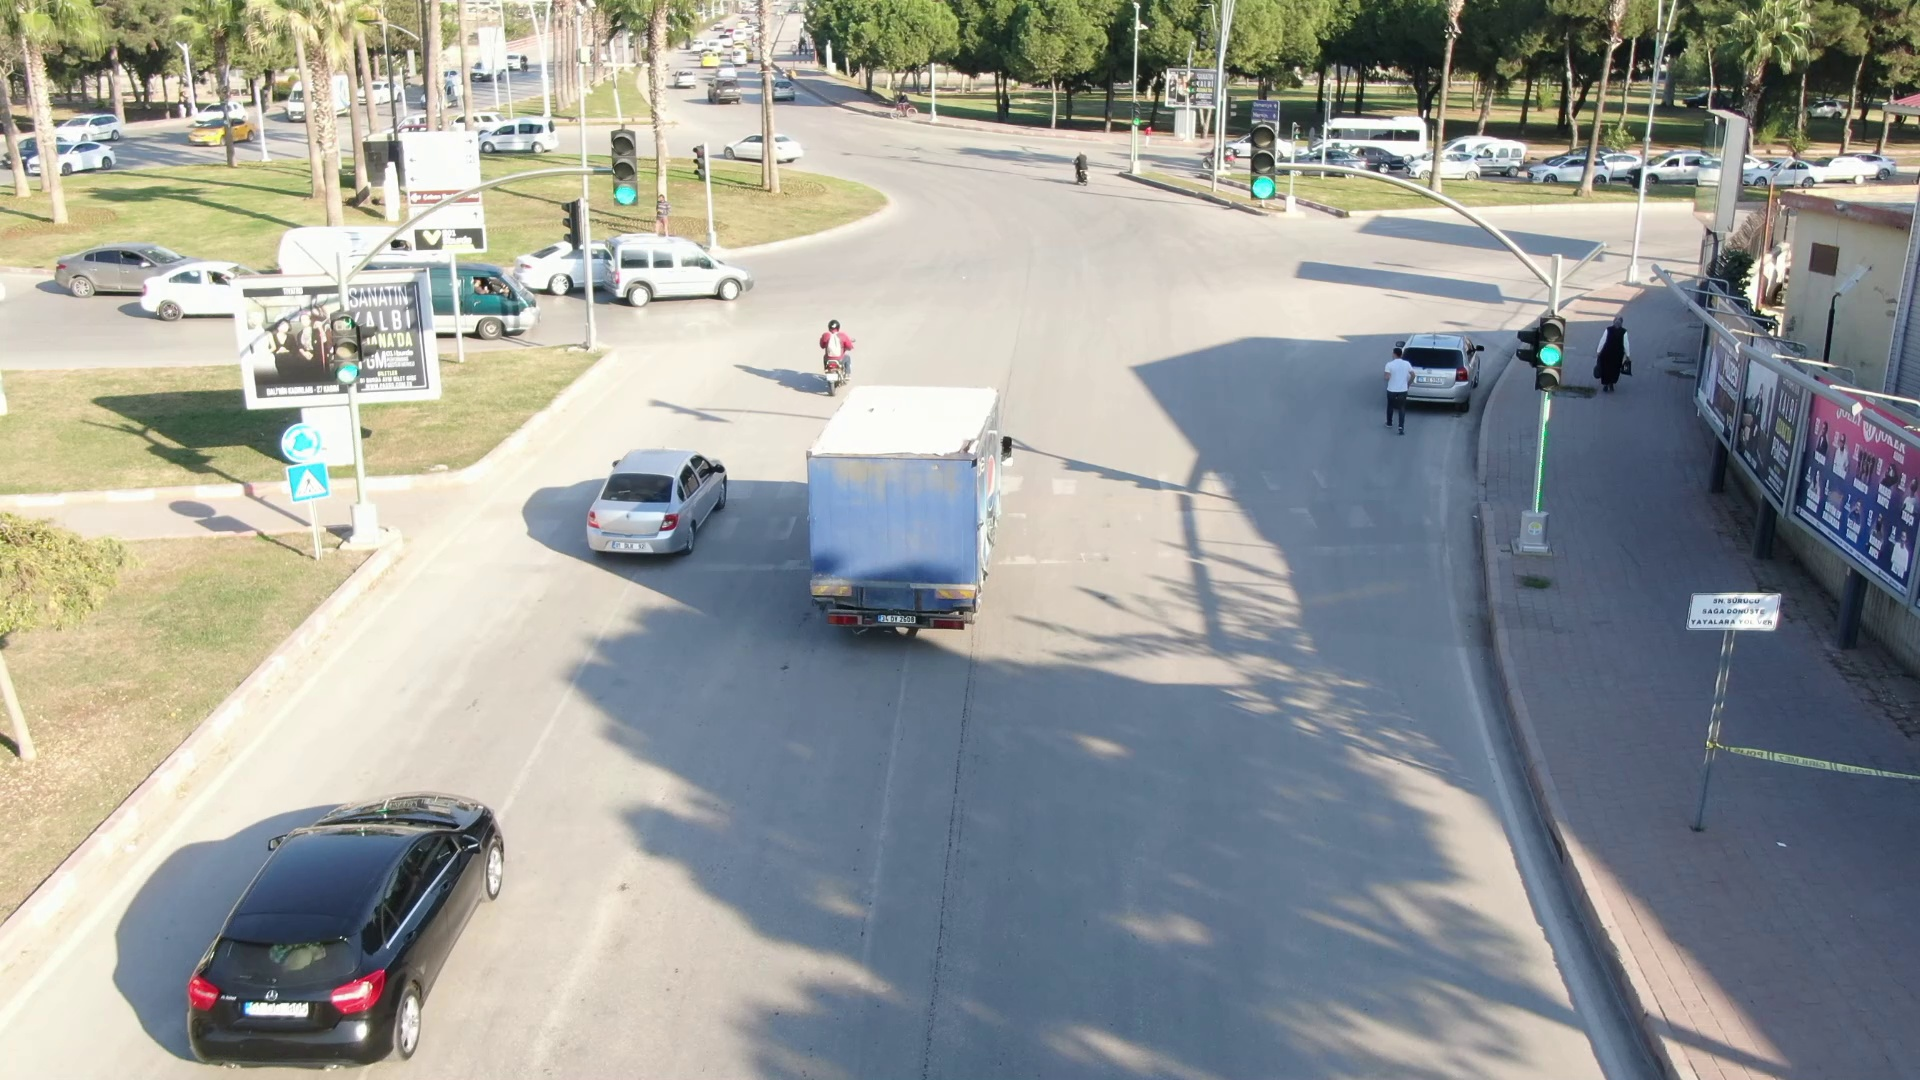car: (169, 764, 546, 1074), (569, 424, 747, 569), (50, 228, 213, 312), (599, 230, 761, 306), (717, 125, 816, 167), (475, 118, 560, 156), (184, 116, 263, 149)
person: (1372, 342, 1417, 438), (1589, 311, 1635, 392), (809, 309, 858, 361)
